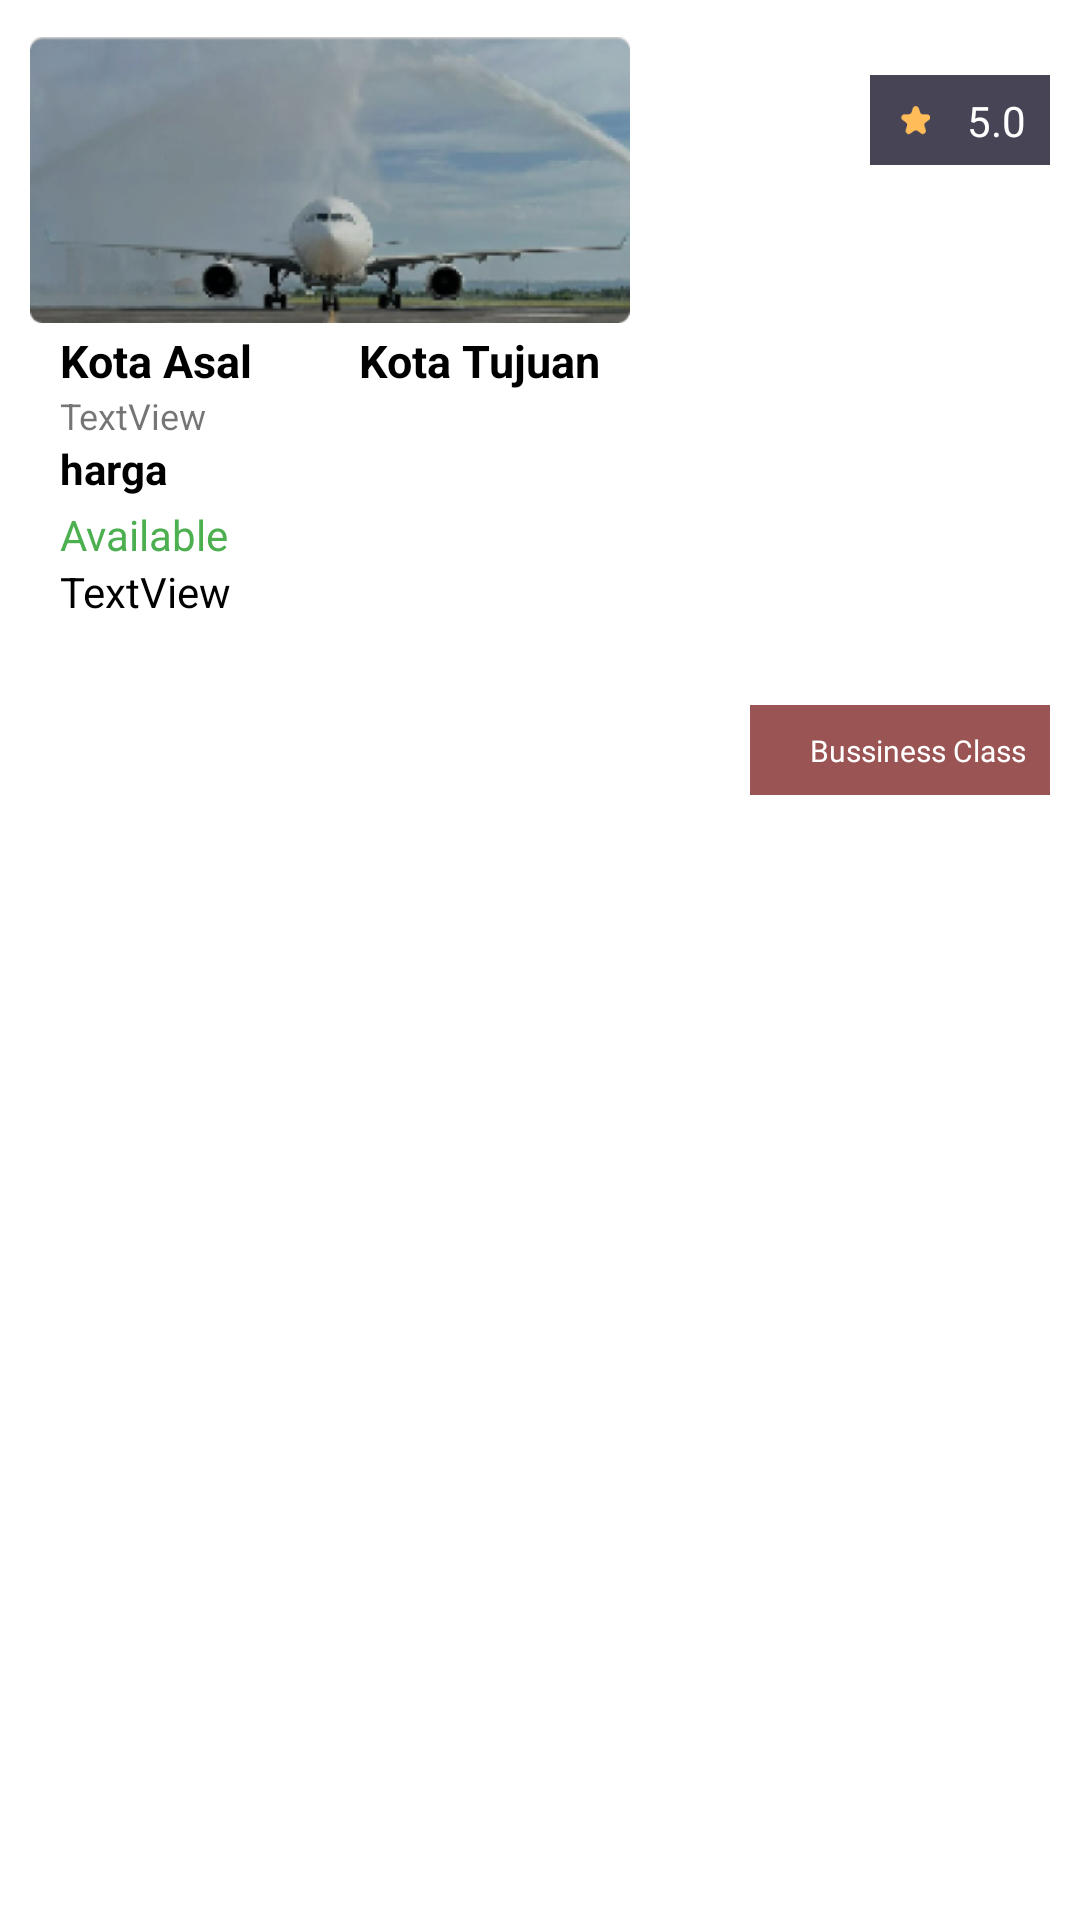

Point at icon controls on the screen. Image size 1080*1920, points as [x,y].
star: [915,120]
